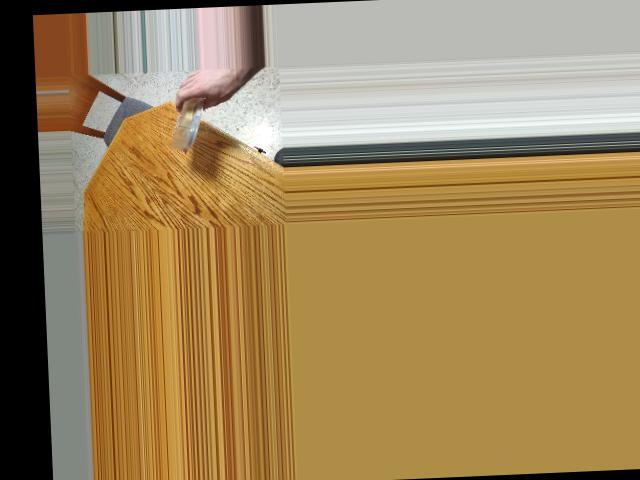cheese: (165, 96, 207, 144)
